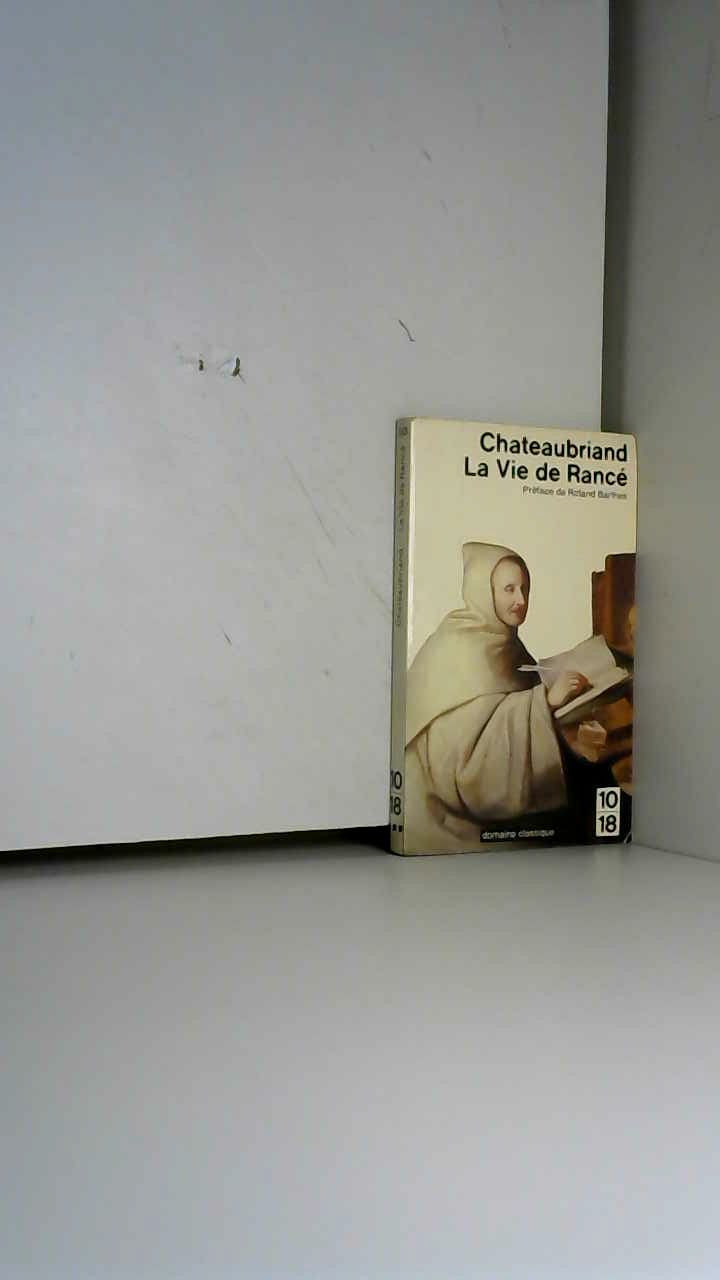book: (360, 390, 719, 884)
